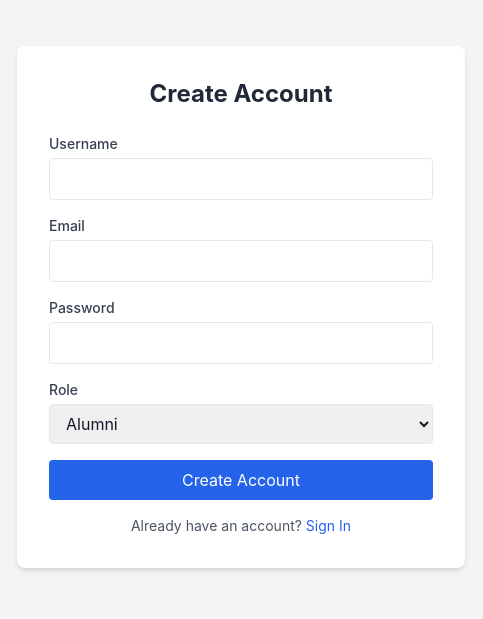
Test: RegisterPage › shows generic fallback on network error
Type "xyz" into the field below "Username". click: (241, 179)
box: [49,158,433,200]
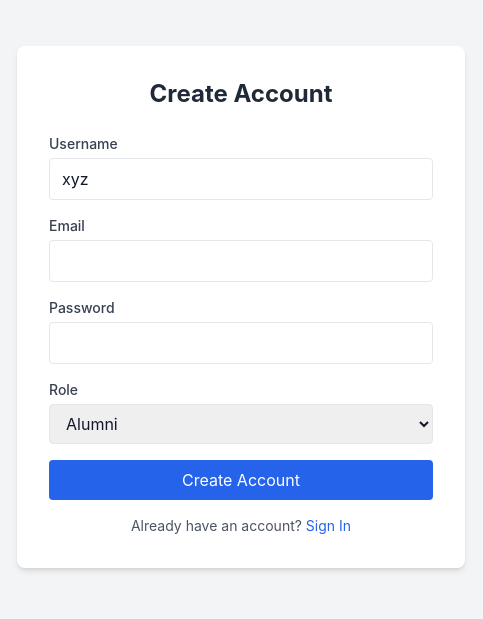
Type "x@t.com" into the field below "Email". click: (241, 261)
box: [49,240,433,282]
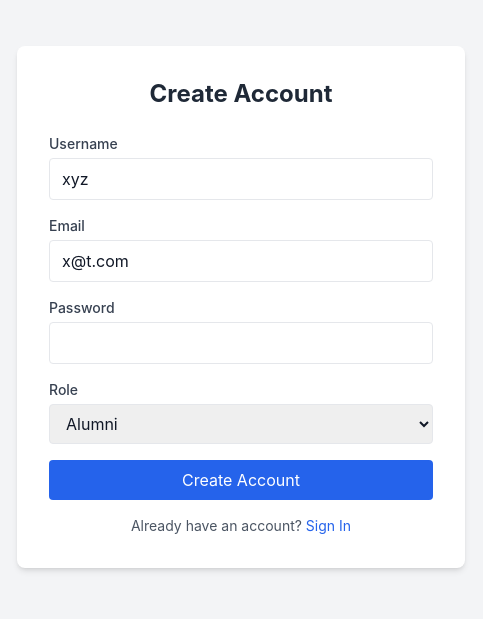
Type "Pass1234" into the password field. click: (241, 343)
box: [49,322,433,364]
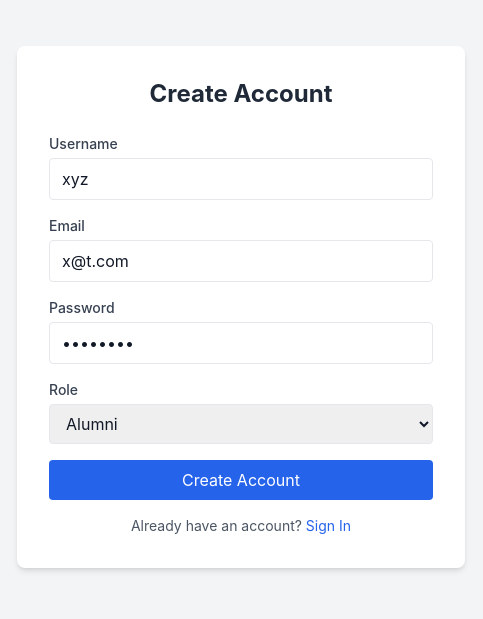
Click the button "Create Account". click: (241, 480)
box: [49,460,433,500]
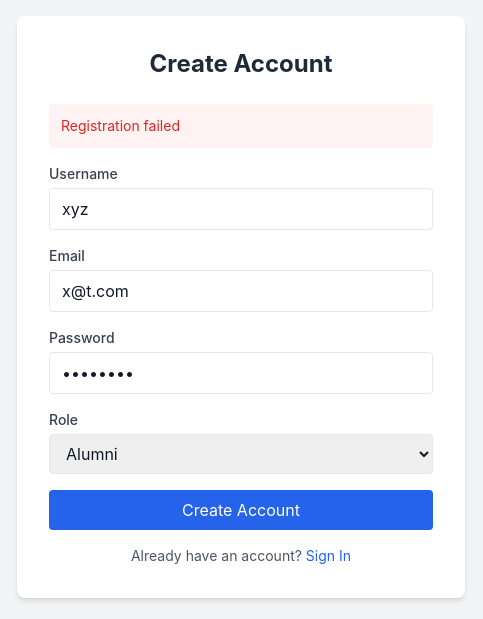
Now the text "Registration failed" is shown, box [49,104,433,148]
